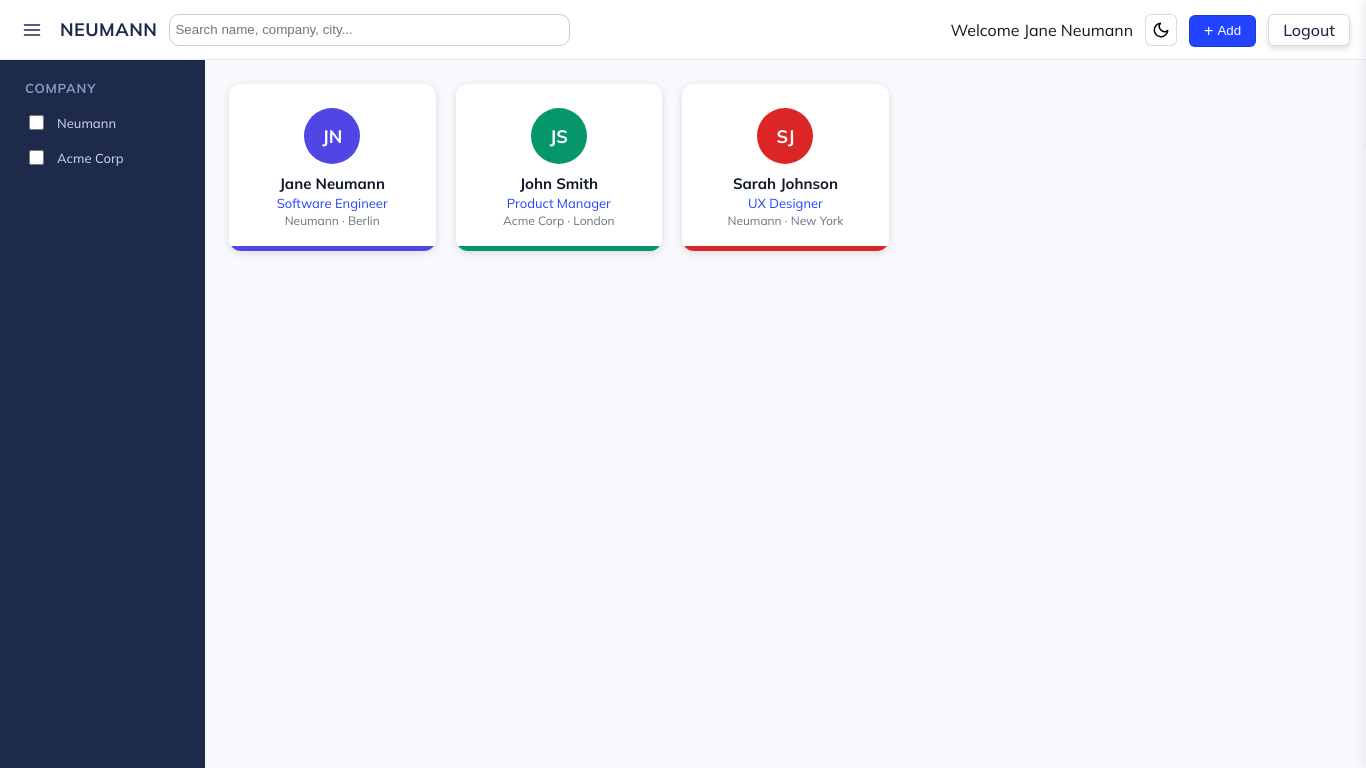
Test case: Dashboard employee flows › edits an employee through the details panel
Click the button "Jane Neumann": (332, 168) 229,84 -> 436,251
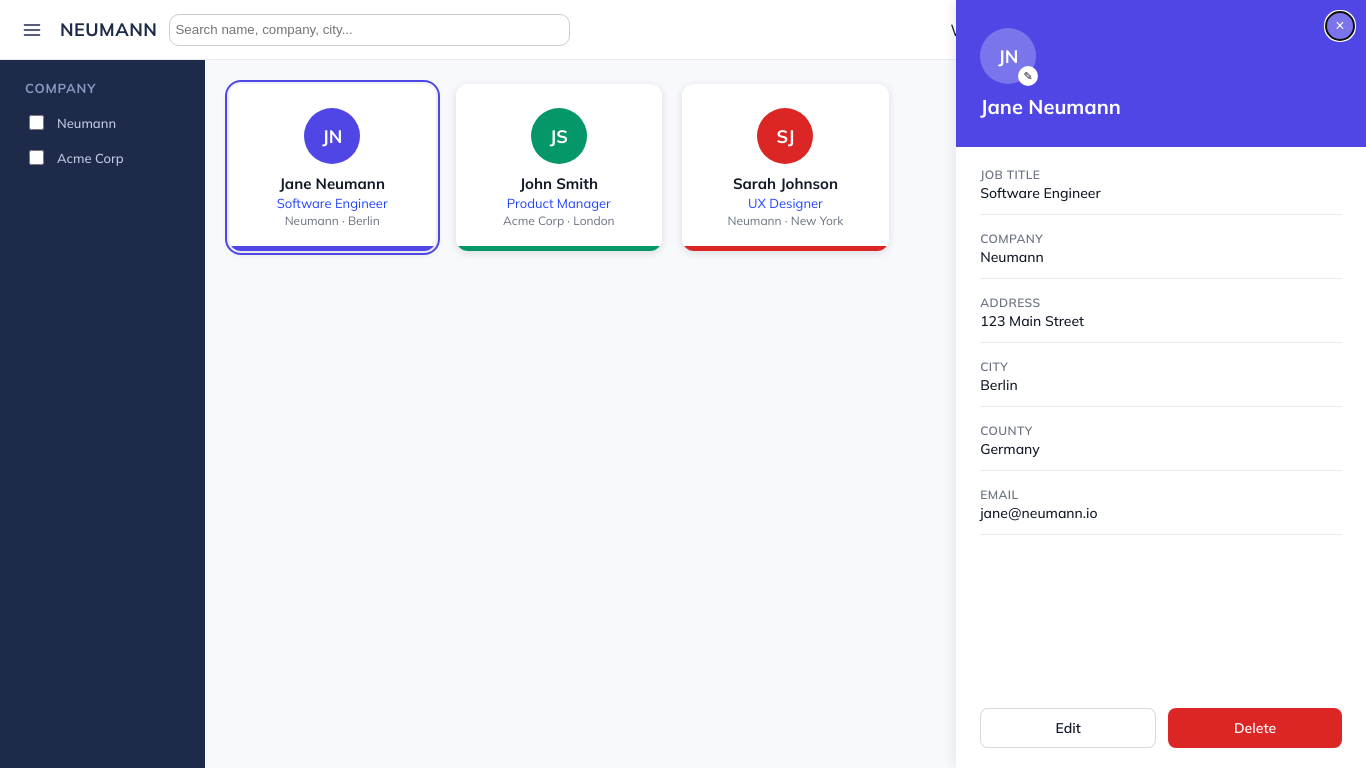
Click the button "Edit": (1068, 728) 980,708 -> 1156,748
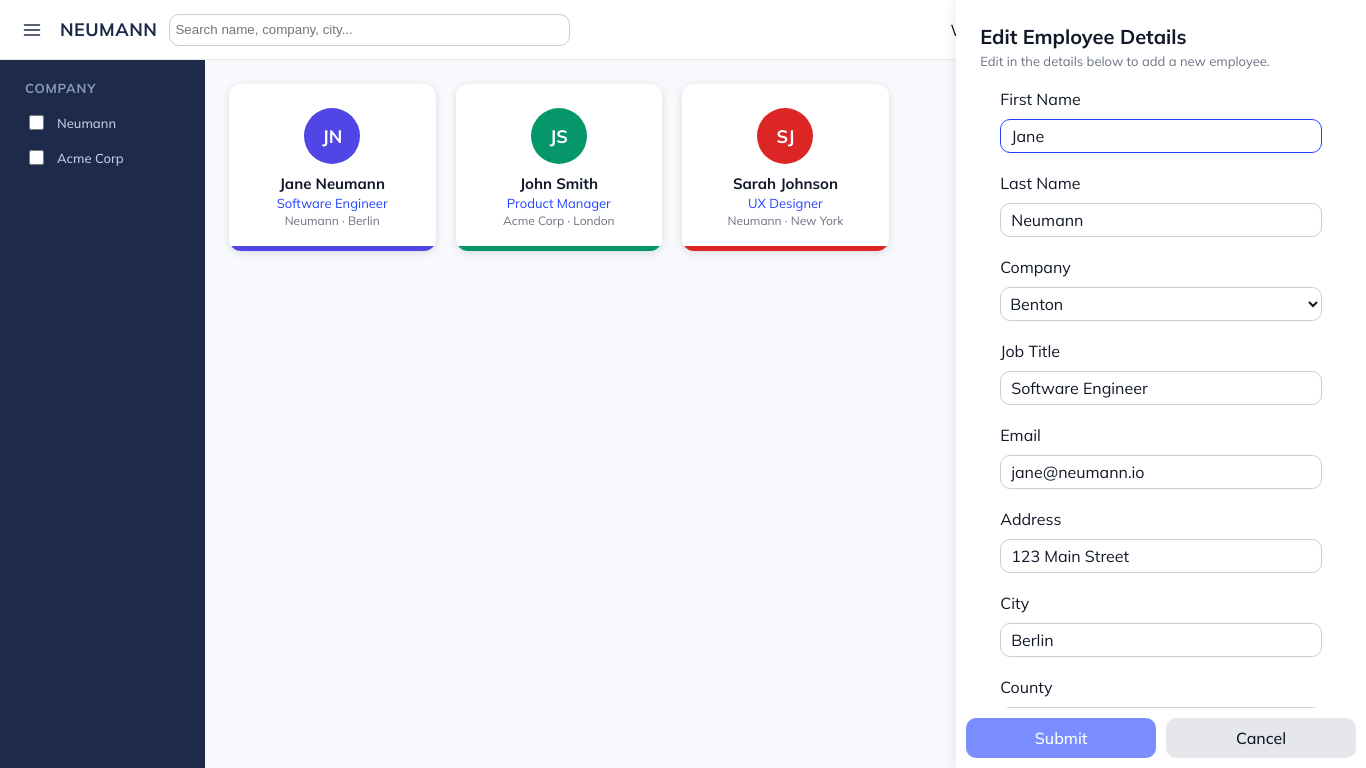
Check: the field labelled "First Name" holds "Jane", box 1000,119 -> 1322,153
Check: the field labelled "Last Name" holds "Neumann", box 1000,203 -> 1322,237
Replace the text in the field labelled "Job Title" with "Staff Engineer": (1161, 388) 1000,371 -> 1322,405
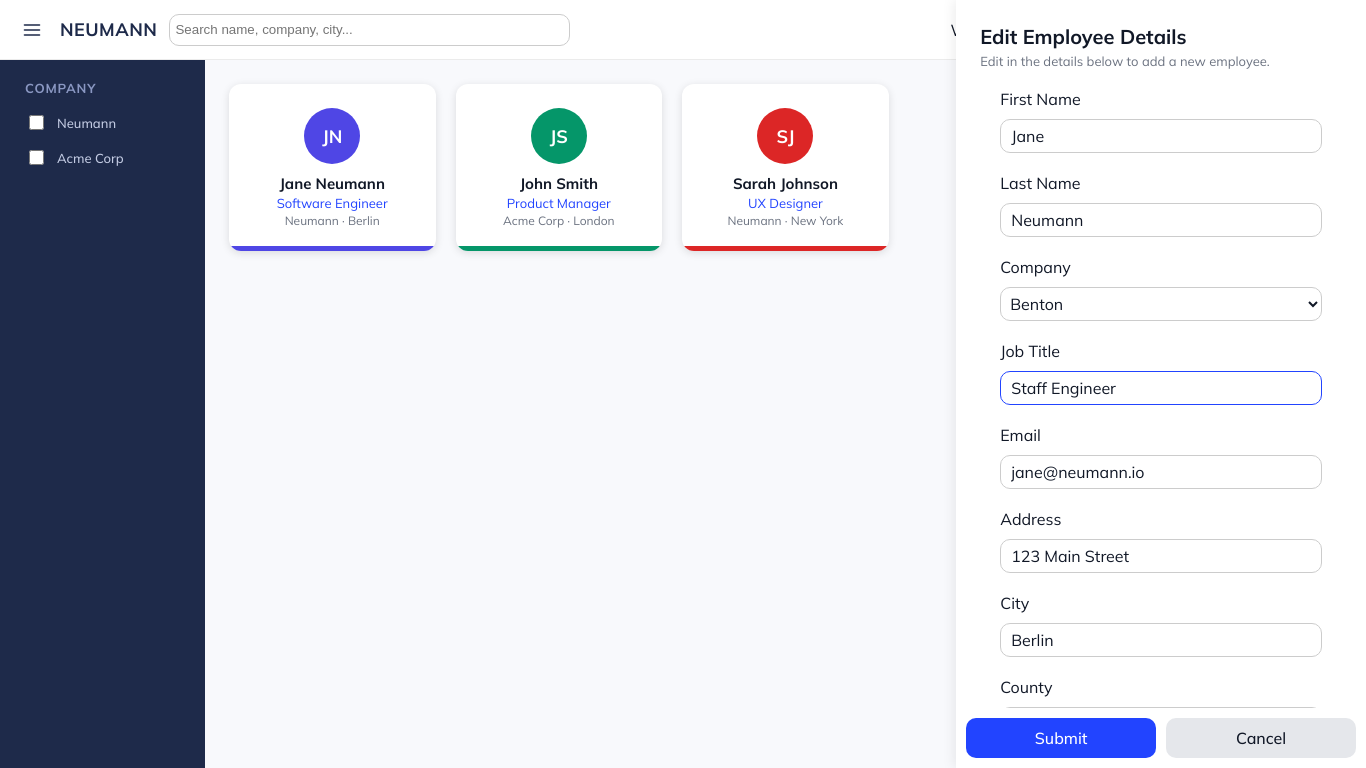
Click the button "Submit": (1061, 738) 966,718 -> 1156,758
(page scrolled)
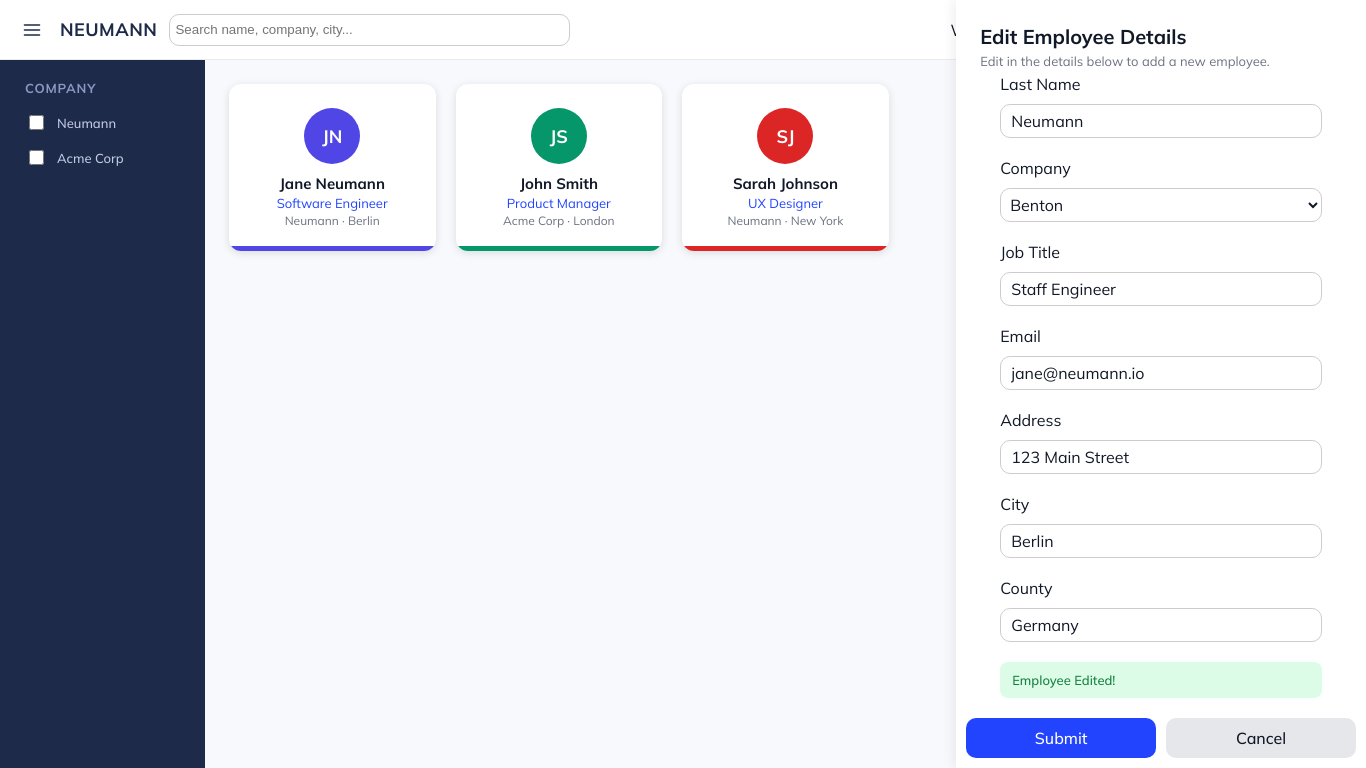
Check: the text "Employee Edited!" is shown, box 1000,662 -> 1322,698
